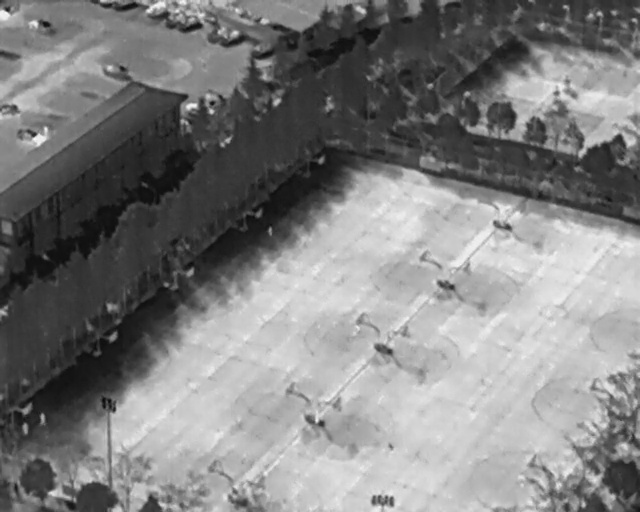Person: (266, 223, 274, 242), (21, 420, 30, 436), (39, 410, 46, 428)
